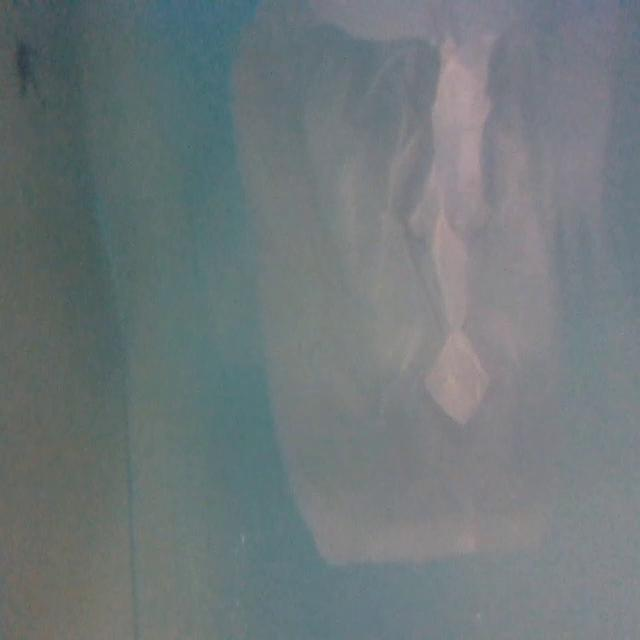plastic bags: (279, 2, 581, 562)
